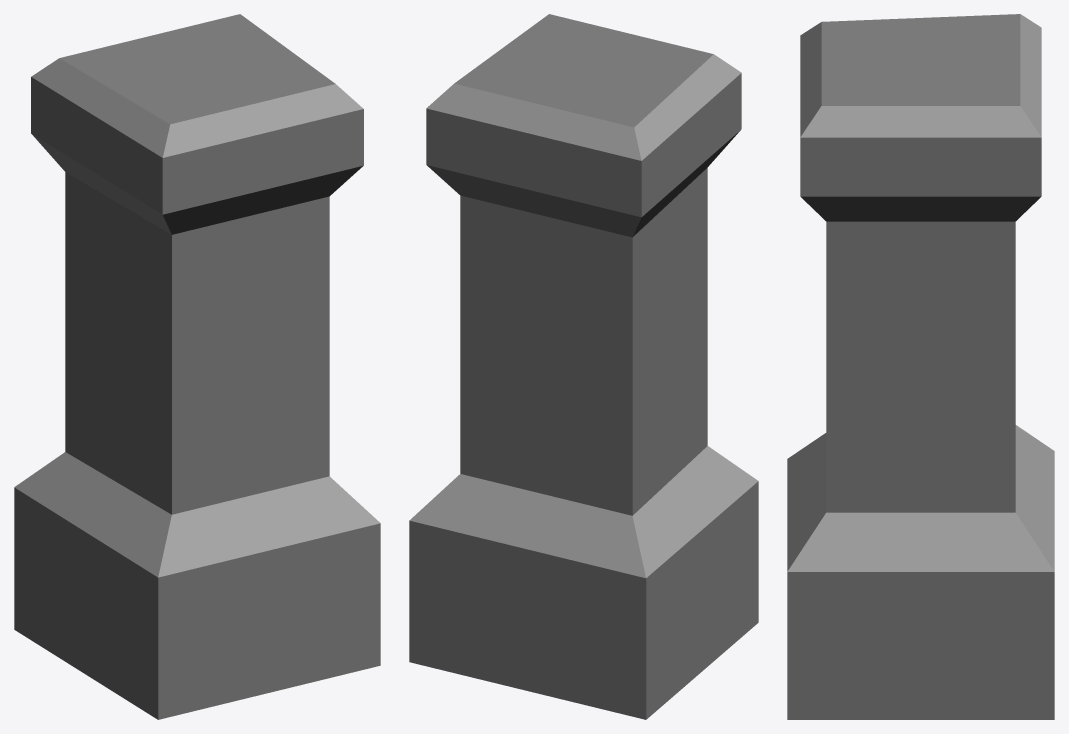
File: pillar.obj
The picture shows the model from 3 angles, left to right: view 1: azimuth 30°, elevation 25°; view 2: azimuth 150°, elevation 25°; view 3: azimuth 270°, elevation 25°; orthographic projection. The views are drawn at different scales.
Parts seen in each view (by area): view 1: Cube.003; view 2: Cube.003; view 3: Cube.003.
Part boxes in pixels (x1,y1,x2,y2): Cube.003: [14, 14, 380, 719]; Cube.003: [409, 14, 758, 719]; Cube.003: [787, 14, 1054, 719].
Size of the model in its own units: 34.22 by 79.19 by 32.
1 material, 1 textured.
